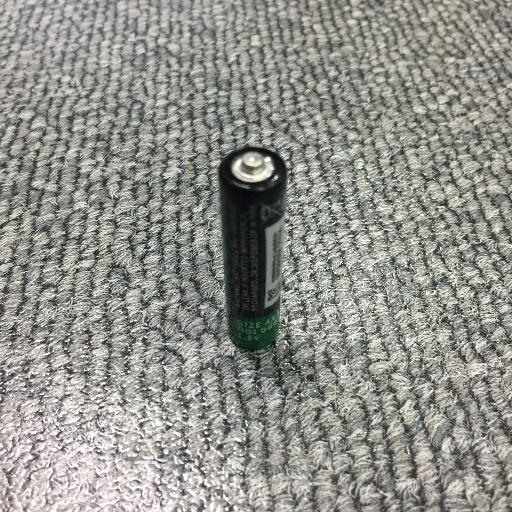Battery_0: (213, 141, 293, 364)
